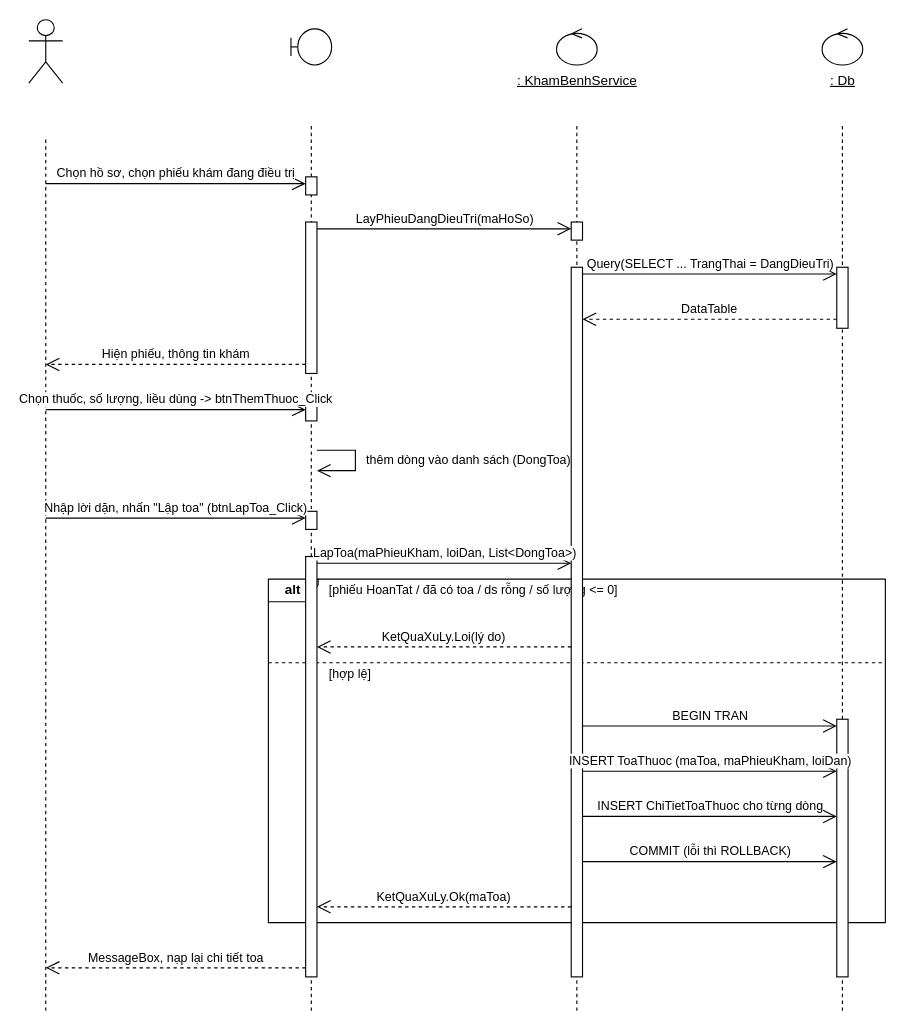
Image size: 906x1034. Some labels were removed from this diagram. Here are the shapes that lost their labels. From the top down, the centre of each, then its label:
At pixel 45 51: ": Bác sĩ".
At pixel 311 46: ": FrmToaThuoc".
